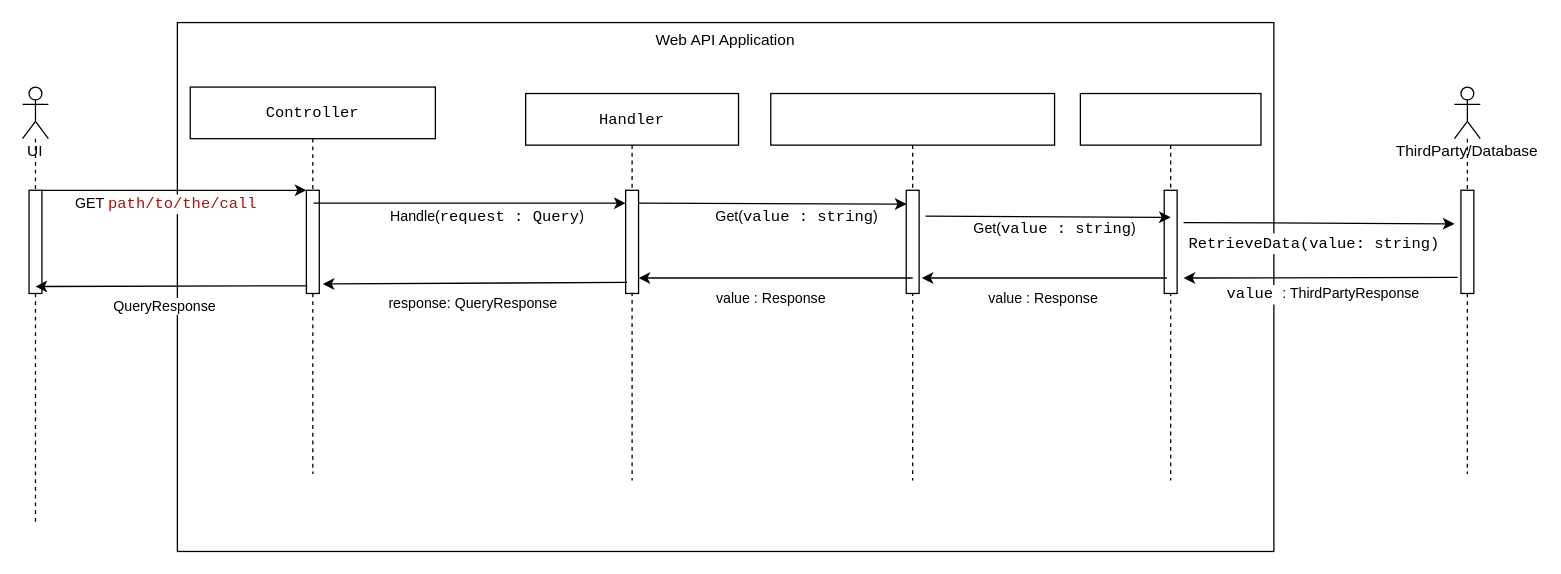
Some shapes in this 1561 by 574 pixel diagram are drawn without their labels. Here are the shapes that lost their labels. From the top down, the centre of each, then its label:
point 912,286: AppService
point 1170,286: Infra
